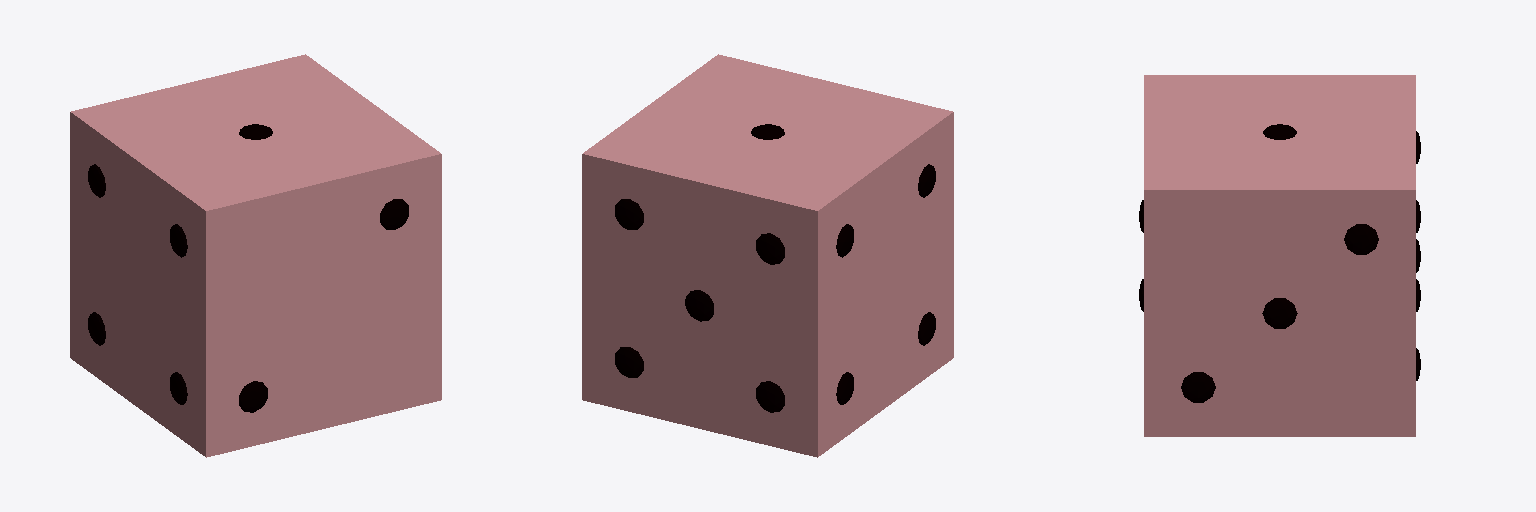
The model's file is die.obj.
The picture shows the model from 3 angles: view 1: azimuth 30°, elevation 25°; view 2: azimuth 150°, elevation 25°; view 3: azimuth 270°, elevation 25°; orthographic projection.
Visible parts, largest first — view 1: Cube, Icosphere.008, Icosphere.007; view 2: Cube, Icosphere.009, Icosphere.010, Icosphere.012, Icosphere.011, Icosphere.013; view 3: Cube, Icosphere.014, Icosphere.020, Icosphere.019.
Boxes of the visible parts, x1,y1,x2,y2 form: Cube: [70, 54, 441, 457]; Icosphere.008: [239, 381, 267, 412]; Icosphere.007: [380, 199, 408, 229]; Cube: [582, 54, 953, 457]; Icosphere.009: [615, 199, 643, 229]; Icosphere.010: [756, 381, 784, 412]; Icosphere.012: [615, 347, 643, 377]; Icosphere.011: [756, 233, 784, 264]; Icosphere.013: [685, 290, 713, 321]; Cube: [1144, 75, 1415, 436]; Icosphere.014: [1344, 224, 1378, 254]; Icosphere.020: [1262, 298, 1297, 328]; Icosphere.019: [1181, 372, 1215, 402].
Bounding box in the file's own units: 2.07 × 2.07 × 2.07.